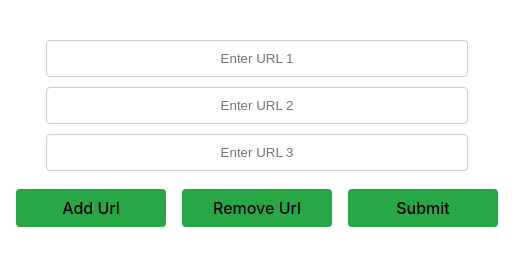
Test: Urls list › Removing a URL input field when "Remove Url" button is clicked
Click the button "Add Url" at (91, 208), box left=16, top=188, right=166, bottom=226
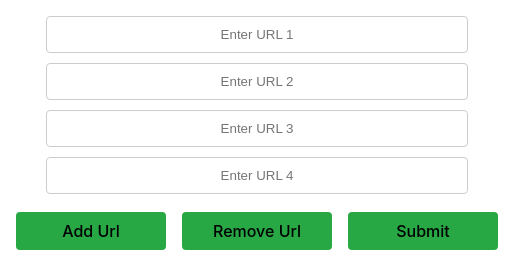
Click the button "Remove Url" at (257, 231), box left=182, top=212, right=332, bottom=250
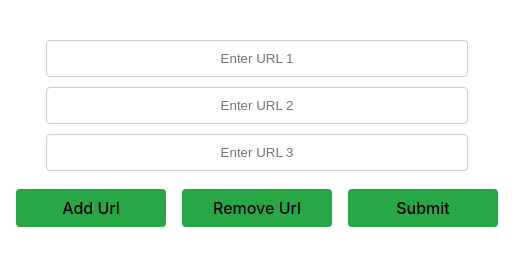
Result: the number of fields with placeholder "Enter URL 1" is 3 at left=46, top=40, right=468, bottom=76; left=46, top=86, right=468, bottom=124; left=46, top=134, right=468, bottom=170
